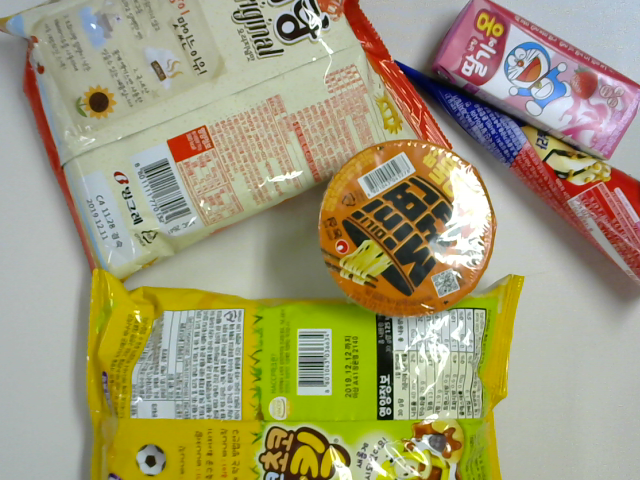Banana_Kick: (85, 273, 527, 480)
Crabrang: (1, 1, 453, 284)
Strawberry_E_Mong: (429, 1, 640, 161)
Udongmini: (317, 141, 495, 317)
World_Cone_Banila: (392, 57, 640, 284)
